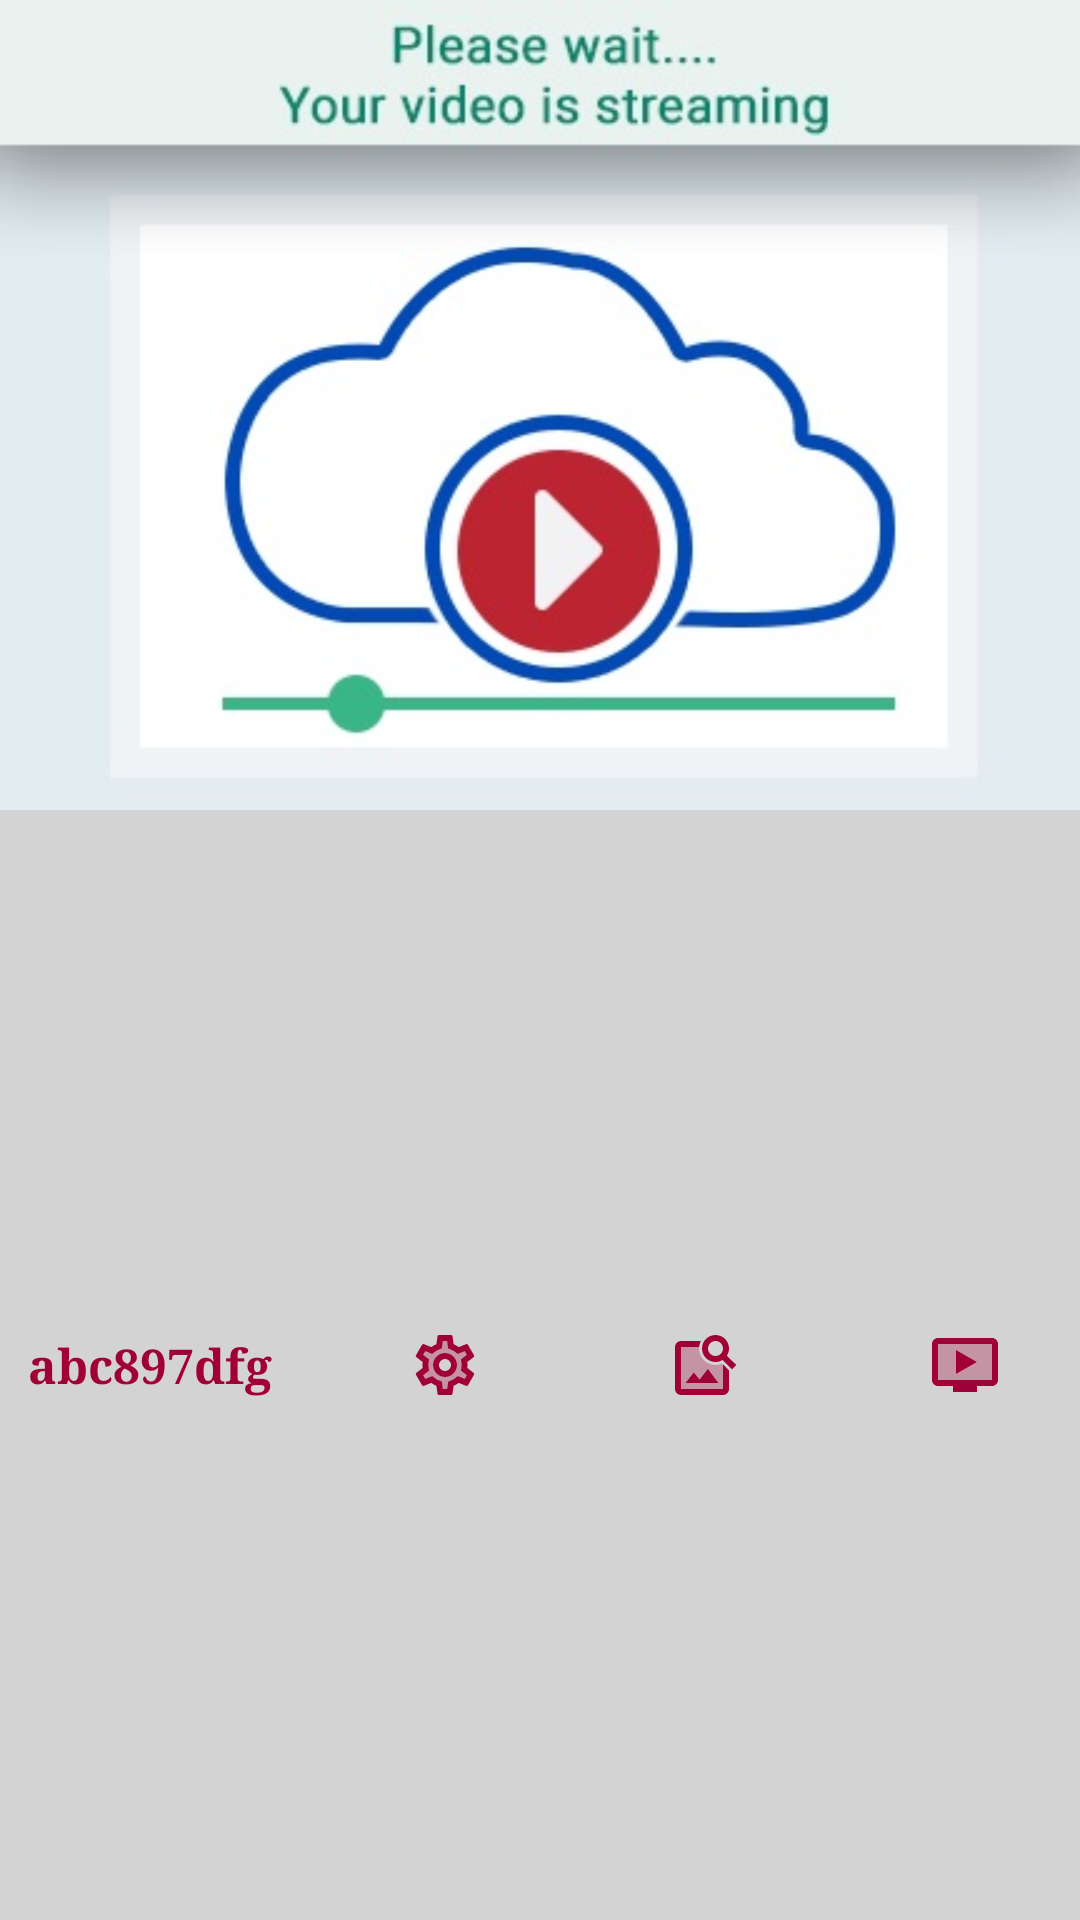

Screen size 1080*1920. Icon name, then its center in pixels as point (x, y):
ondemand video: point (965, 1365)
search: point (705, 1365)
setting: point (444, 1365)
